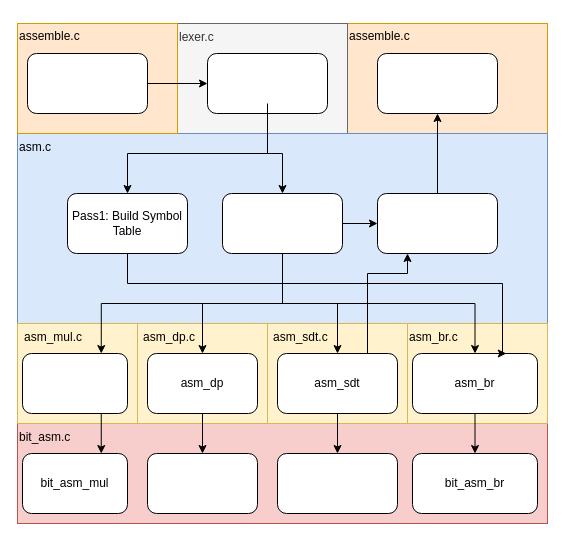
This 565x541 diagram has some shape labels left out. Here are the shapes that lost their labels. From the top down, the centre of each, then its label:
At (x=87, y=83): "Read Assembly code".
At (x=267, y=83): "Get Next Token".
At (x=437, y=83): "Write Output".
At (x=282, y=223): "Pass2: Output Binary".
At (x=437, y=223): "Pass3: Add Contants".
At (x=75, y=383): "asm_mul".
At (x=202, y=483): "bit_asm_dp".
At (x=337, y=483): "bit_asm_sdt".
